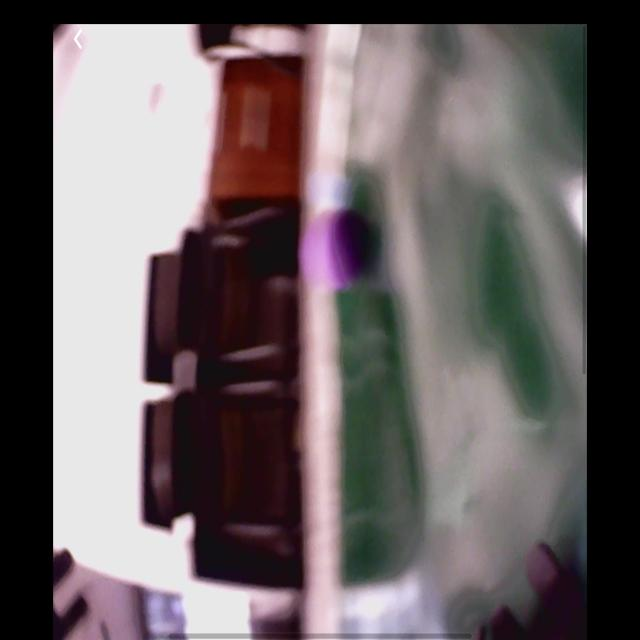ball: (300, 216, 371, 294)
